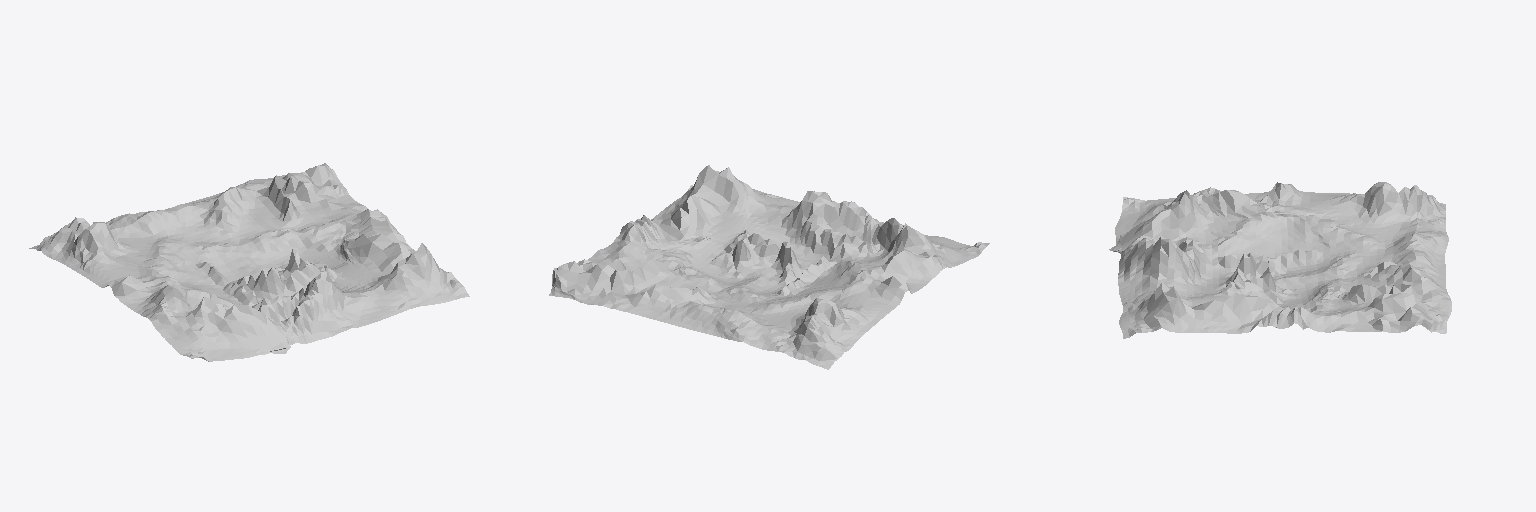
The model's file is ground2.obj.
The picture shows the model from 3 angles: view 1: azimuth 30°, elevation 25°; view 2: azimuth 150°, elevation 25°; view 3: azimuth 270°, elevation 25°; orthographic projection.
Parts seen in each view (by area): view 1: pPlane1; view 2: pPlane1; view 3: pPlane1.
Boxes of the visible parts, x1=… form: pPlane1: x1=29, y1=163, x2=469, y2=361; pPlane1: x1=549, y1=165, x2=989, y2=369; pPlane1: x1=1109, y1=182, x2=1451, y2=338.
Bounding box in the file's own units: 1042 × 171 × 1067.